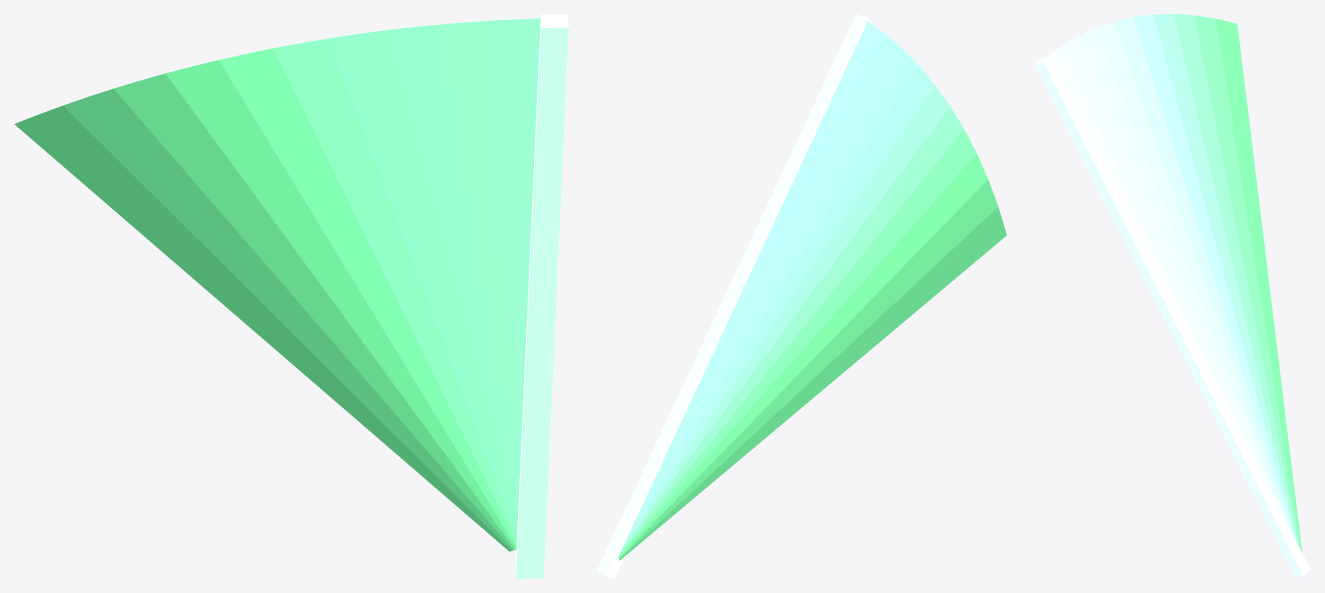
The model's file is sweep.glb.
3 renders of one model, left to right at view 1: azimuth 30°, elevation 25°; view 2: azimuth 150°, elevation 25°; view 3: azimuth 270°, elevation 25°, orthographic. The views are drawn at different scales.
Visible parts, largest first — view 1: dnsm_sweep_edge, dnsm_sweep_sec_6, dnsm_sweep_sec_5, dnsm_sweep_sec_9, dnsm_sweep_sec_7, dnsm_sweep_sec_8, dnsm_sweep_sec_4, dnsm_sweep_sec_3, dnsm_sweep_sec_2, dnsm_sweep_sec_1, dnsm_sweep_sec_0; view 2: dnsm_sweep_edge, dnsm_sweep_sec_4, dnsm_sweep_sec_5, dnsm_sweep_sec_3, dnsm_sweep_sec_6, dnsm_sweep_sec_7, dnsm_sweep_sec_9, dnsm_sweep_sec_8, dnsm_sweep_sec_2, dnsm_sweep_sec_1, dnsm_sweep_sec_0; view 3: dnsm_sweep_edge, dnsm_sweep_sec_8, dnsm_sweep_sec_9, dnsm_sweep_sec_7, dnsm_sweep_sec_6, dnsm_sweep_sec_5, dnsm_sweep_sec_4, dnsm_sweep_sec_3, dnsm_sweep_sec_2, dnsm_sweep_sec_1, dnsm_sweep_sec_0.
Boxes of the visible parts, x1=… form: dnsm_sweep_edge: x1=515, y1=14, x2=568, y2=578; dnsm_sweep_sec_6: x1=165, y1=60, x2=516, y2=549; dnsm_sweep_sec_5: x1=219, y1=48, x2=516, y2=547; dnsm_sweep_sec_9: x1=14, y1=105, x2=510, y2=551; dnsm_sweep_sec_7: x1=114, y1=73, x2=514, y2=550; dnsm_sweep_sec_8: x1=63, y1=88, x2=512, y2=550; dnsm_sweep_sec_4: x1=273, y1=38, x2=516, y2=542; dnsm_sweep_sec_3: x1=328, y1=30, x2=517, y2=535; dnsm_sweep_sec_2: x1=384, y1=24, x2=518, y2=524; dnsm_sweep_sec_1: x1=441, y1=20, x2=521, y2=501; dnsm_sweep_sec_0: x1=497, y1=18, x2=540, y2=432; dnsm_sweep_edge: x1=597, y1=14, x2=873, y2=578; dnsm_sweep_sec_4: x1=621, y1=85, x2=949, y2=549; dnsm_sweep_sec_5: x1=619, y1=106, x2=963, y2=554; dnsm_sweep_sec_3: x1=625, y1=65, x2=934, y2=542; dnsm_sweep_sec_6: x1=618, y1=129, x2=976, y2=557; dnsm_sweep_sec_7: x1=618, y1=154, x2=987, y2=558; dnsm_sweep_sec_9: x1=619, y1=207, x2=1006, y2=560; dnsm_sweep_sec_8: x1=619, y1=180, x2=998, y2=559; dnsm_sweep_sec_2: x1=630, y1=48, x2=918, y2=530; dnsm_sweep_sec_1: x1=641, y1=32, x2=900, y2=507; dnsm_sweep_sec_0: x1=675, y1=21, x2=882, y2=434; dnsm_sweep_edge: x1=1035, y1=55, x2=1310, y2=578; dnsm_sweep_sec_8: x1=1194, y1=15, x2=1300, y2=549; dnsm_sweep_sec_9: x1=1216, y1=19, x2=1302, y2=552; dnsm_sweep_sec_7: x1=1174, y1=14, x2=1299, y2=546; dnsm_sweep_sec_6: x1=1153, y1=14, x2=1297, y2=543; dnsm_sweep_sec_5: x1=1133, y1=14, x2=1295, y2=538; dnsm_sweep_sec_4: x1=1114, y1=17, x2=1291, y2=531; dnsm_sweep_sec_3: x1=1095, y1=22, x2=1287, y2=522; dnsm_sweep_sec_2: x1=1078, y1=28, x2=1278, y2=505; dnsm_sweep_sec_1: x1=1061, y1=36, x2=1262, y2=473; dnsm_sweep_sec_0: x1=1049, y1=47, x2=1216, y2=383.
Bounding box in the file's own units: 0.057 × 0.0711 × 0.0383.
